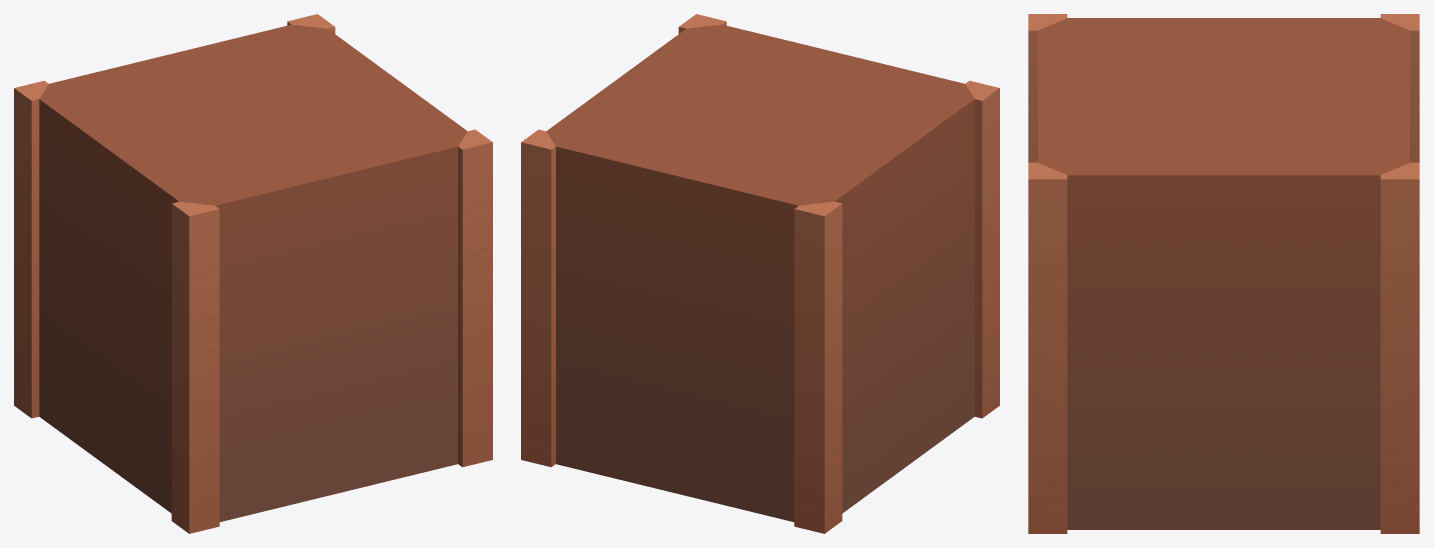
Rendered from wallWoodBlock.fbx.
The picture shows the model from 3 angles, left to right: view 1: azimuth 30°, elevation 25°; view 2: azimuth 150°, elevation 25°; view 3: azimuth 270°, elevation 25°; orthographic projection. The views are drawn at different scales.
Visible parts, largest first — view 1: wallWoodBlock; view 2: wallWoodBlock; view 3: wallWoodBlock.
Part boxes in pixels (box(x1,y1,x2,y2)): wallWoodBlock: box(14, 14, 492, 533); wallWoodBlock: box(521, 14, 999, 533); wallWoodBlock: box(1028, 14, 1419, 533).
Bounding box in the file's own units: 1 × 1 × 1.
